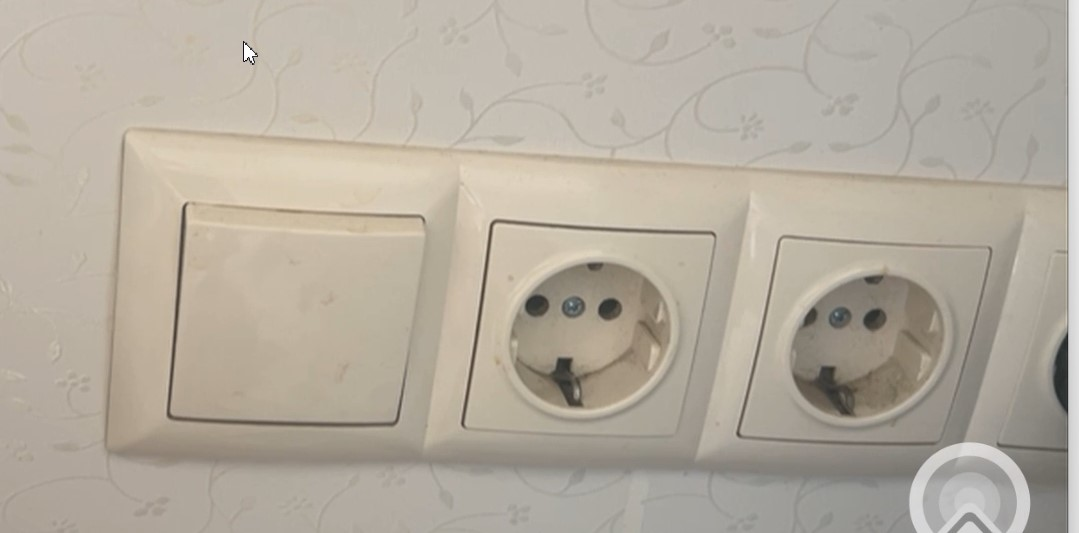Light Switcher: (115, 133, 440, 465)
Power Outlet: (446, 158, 715, 469), (723, 175, 984, 445)
